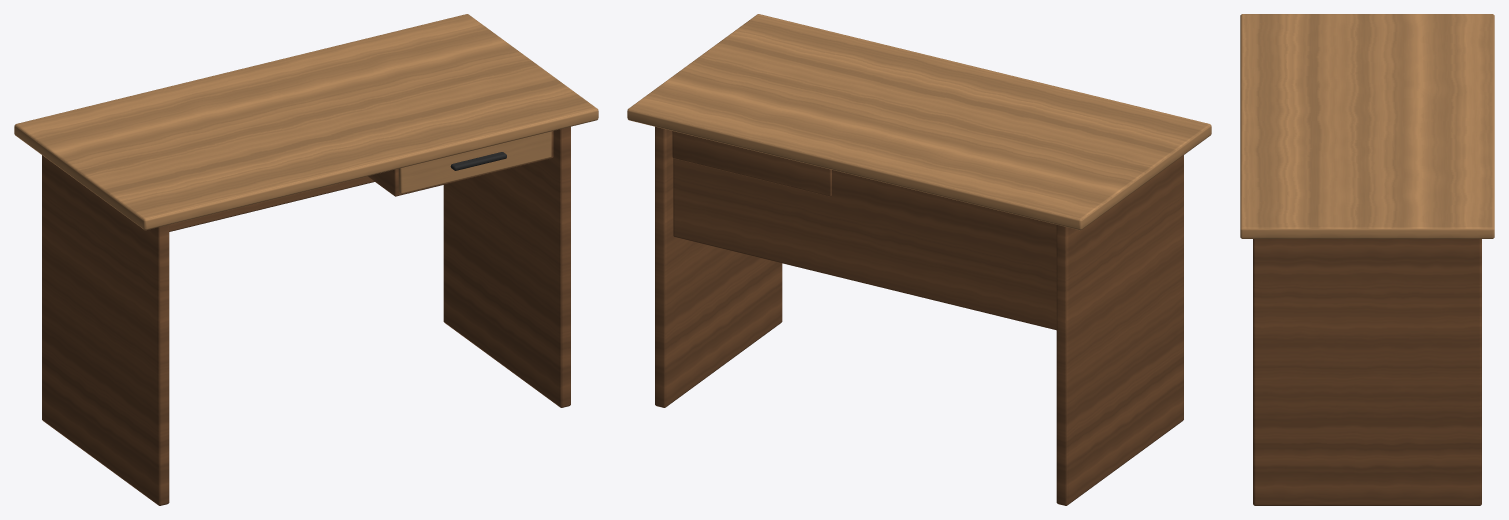
File: escritorio.glb
3 renders of one model, left to right at view 1: azimuth 30°, elevation 25°; view 2: azimuth 150°, elevation 25°; view 3: azimuth 270°, elevation 25°, orthographic. The views are drawn at different scales.
Parts seen in each view (by area): view 1: escritorio_0, escritorio_1, escritorio_2, escritorio_5, escritorio_3, escritorio_4; view 2: escritorio_0, escritorio_3, escritorio_1, escritorio_2, escritorio_4; view 3: escritorio_2, escritorio_0.
Part boxes in pixels (x1=…): escritorio_0: x1=14, y1=14, x2=598, y2=230; escritorio_1: x1=42, y1=155, x2=169, y2=505; escritorio_2: x1=443, y1=126, x2=570, y2=407; escritorio_5: x1=398, y1=131, x2=551, y2=193; escritorio_3: x1=169, y1=176, x2=374, y2=231; escritorio_4: x1=368, y1=131, x2=553, y2=196; escritorio_0: x1=627, y1=14, x2=1211, y2=230; escritorio_3: x1=673, y1=158, x2=1056, y2=330; escritorio_1: x1=1056, y1=155, x2=1183, y2=505; escritorio_2: x1=655, y1=126, x2=782, y2=407; escritorio_4: x1=672, y1=131, x2=831, y2=196; escritorio_2: x1=1253, y1=239, x2=1481, y2=505; escritorio_0: x1=1240, y1=14, x2=1494, y2=238.
Size of the model in its own units: 1.2 by 0.75 by 0.6.
3 materials, 3 textured.
